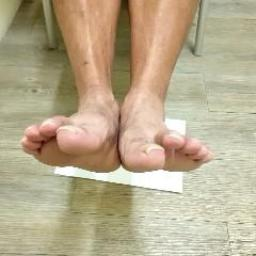Front View -Both Feet-: (12, 40, 224, 198)
